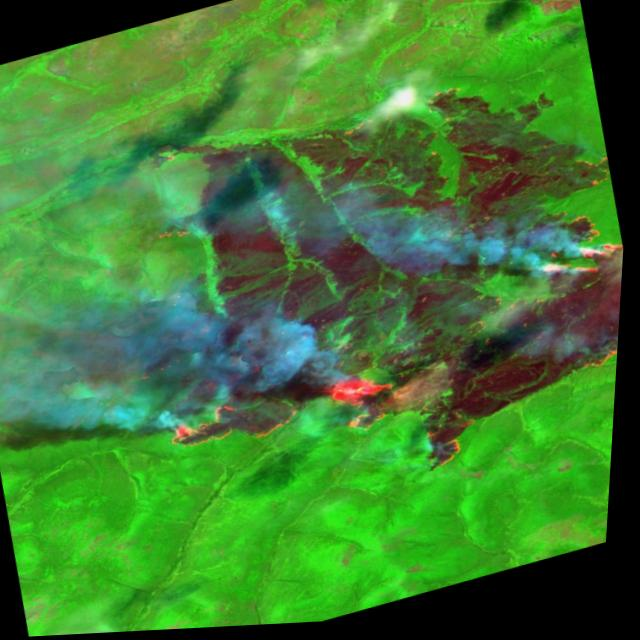fire: (124, 155, 632, 547)
